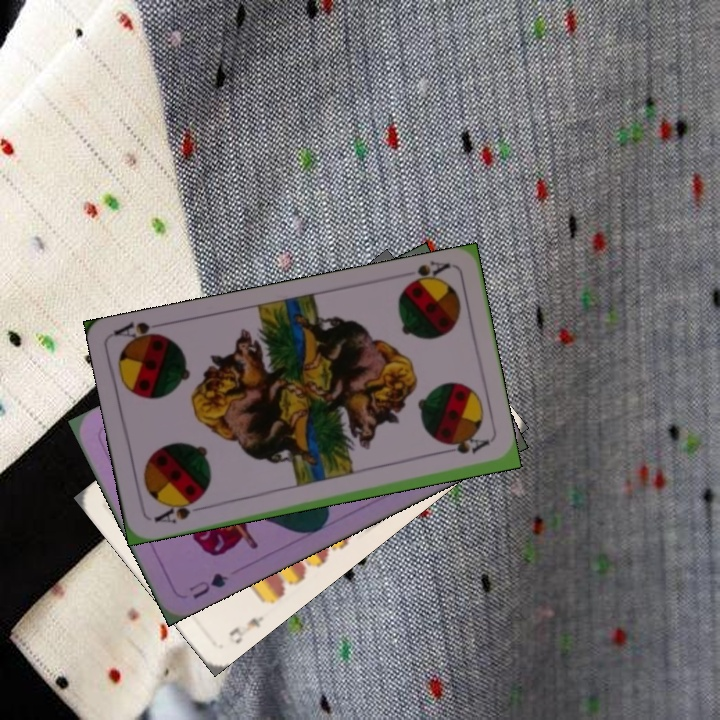E9: (225, 611, 267, 647)
GU: (185, 568, 231, 602)
SA: (398, 258, 453, 292), (149, 495, 204, 526)
